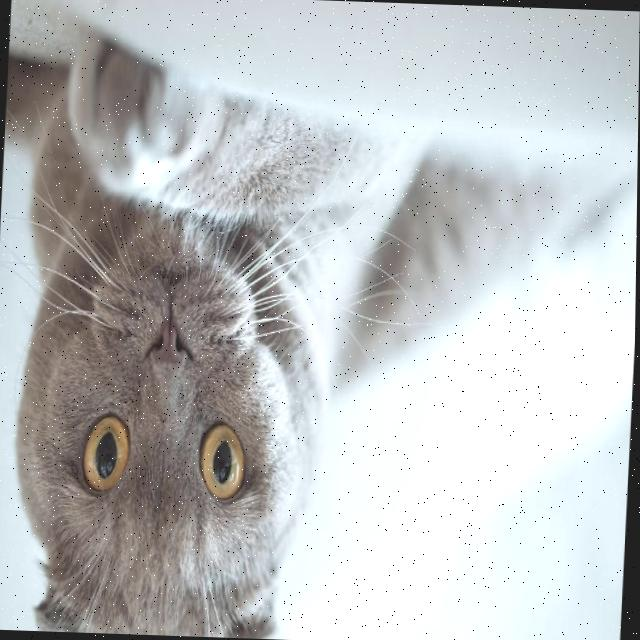Scottish Fold: (0, 33, 443, 640)
